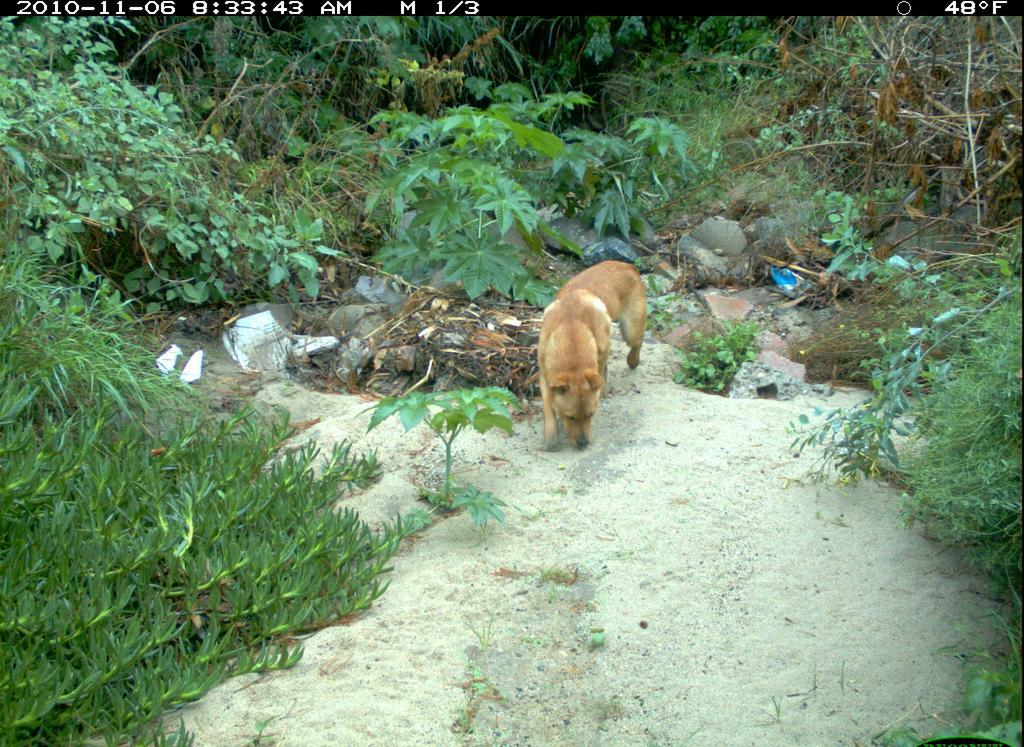dog: (523, 244, 652, 459)
